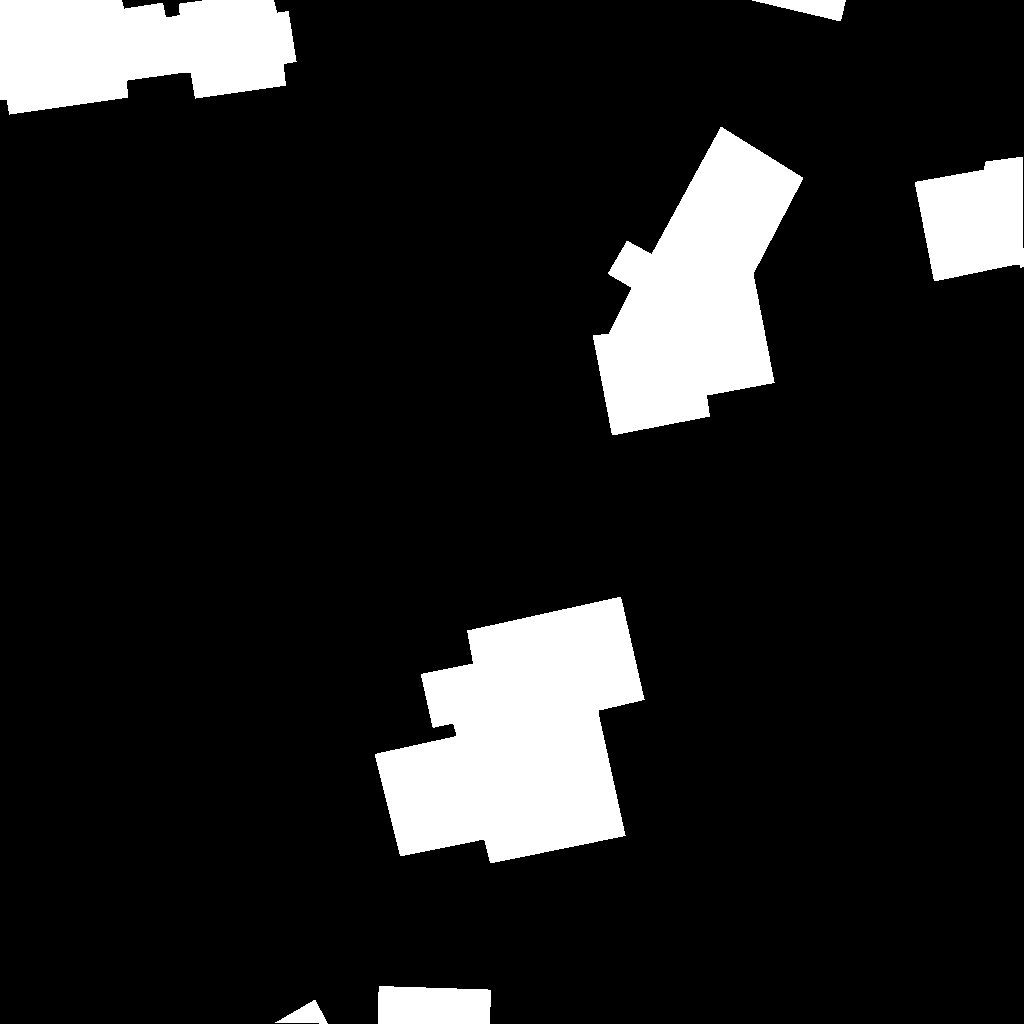building: (375, 597, 645, 864), (593, 127, 804, 436), (0, 0, 297, 115), (915, 157, 1024, 282), (275, 986, 492, 1024), (750, 0, 847, 22)
